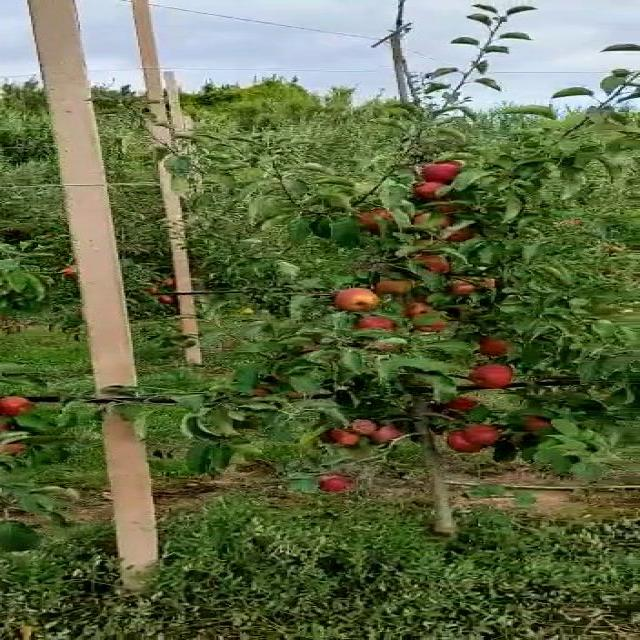100-_ripeness: (434, 431, 491, 459), (498, 412, 564, 434), (400, 255, 458, 279), (329, 284, 382, 310), (457, 362, 508, 388), (411, 179, 464, 203), (307, 426, 369, 446), (422, 157, 467, 184), (360, 208, 409, 232), (462, 419, 507, 445), (404, 310, 451, 333), (406, 212, 454, 234), (376, 273, 418, 298), (352, 308, 394, 332), (478, 334, 522, 356), (429, 395, 480, 413), (2, 392, 38, 416), (366, 424, 406, 445), (445, 274, 482, 296), (344, 418, 378, 439)
